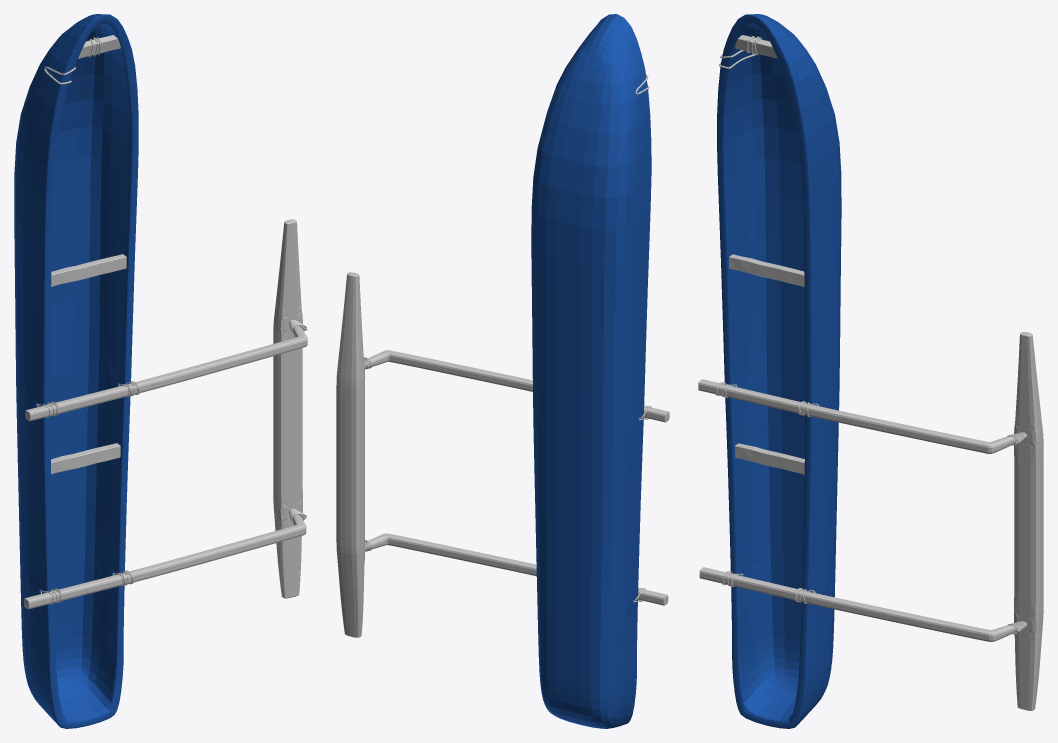
File: Dugout_Canoe.obj
3 renders of one model, left to right at view 1: azimuth 30°, elevation 25°; view 2: azimuth 150°, elevation 25°; view 3: azimuth 330°, elevation 25°, orthographic. The views are drawn at different scales.
Parts seen in each view (by area): view 1: Dugout_canoe, Dugout_sidehull, Dugout_supportBeam1, Dugout_supportBeam2, Dugout_seatbeam1, Dugout_seatbeam2, Dugout_bowbeam; view 2: Dugout_canoe, Dugout_sidehull, Dugout_supportBeam2, Dugout_supportBeam1; view 3: Dugout_canoe, Dugout_sidehull, Dugout_supportBeam1, Dugout_supportBeam2, Dugout_seatbeam1, Dugout_seatbeam2.
Part boxes in pixels (<box>): Dugout_canoe: <box>14,14,138,728</box>; Dugout_sidehull: <box>273,219,302,598</box>; Dugout_supportBeam1: <box>25,325,307,421</box>; Dugout_supportBeam2: <box>24,514,306,609</box>; Dugout_seatbeam1: <box>51,254,126,286</box>; Dugout_seatbeam2: <box>51,443,120,474</box>; Dugout_bowbeam: <box>78,35,120,58</box>; Dugout_canoe: <box>531,14,651,728</box>; Dugout_sidehull: <box>336,272,365,637</box>; Dugout_supportBeam2: <box>365,533,668,605</box>; Dugout_supportBeam1: <box>364,350,669,422</box>; Dugout_canoe: <box>717,14,841,728</box>; Dugout_sidehull: <box>1014,332,1043,710</box>; Dugout_supportBeam1: <box>698,379,1017,453</box>; Dugout_supportBeam2: <box>699,567,1017,641</box>; Dugout_seatbeam1: <box>729,254,804,286</box>; Dugout_seatbeam2: <box>735,443,804,474</box>.
Size of the model in its own units: 66.49 by 149 by 19.2.
